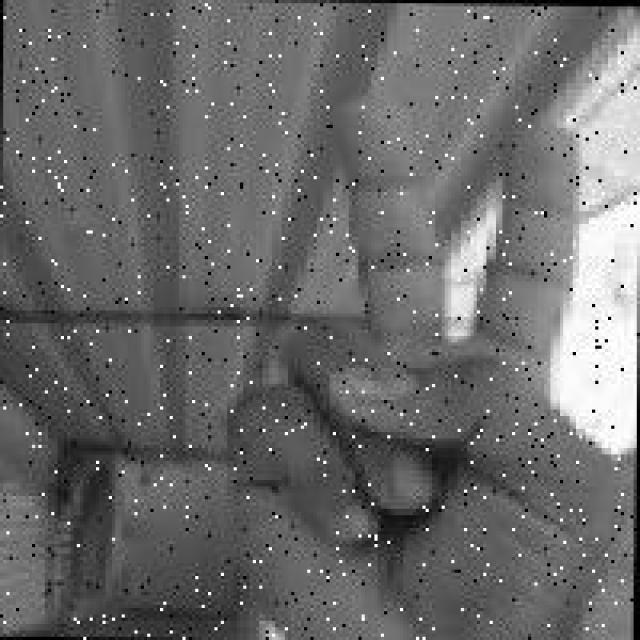V: (221, 77, 630, 640)
